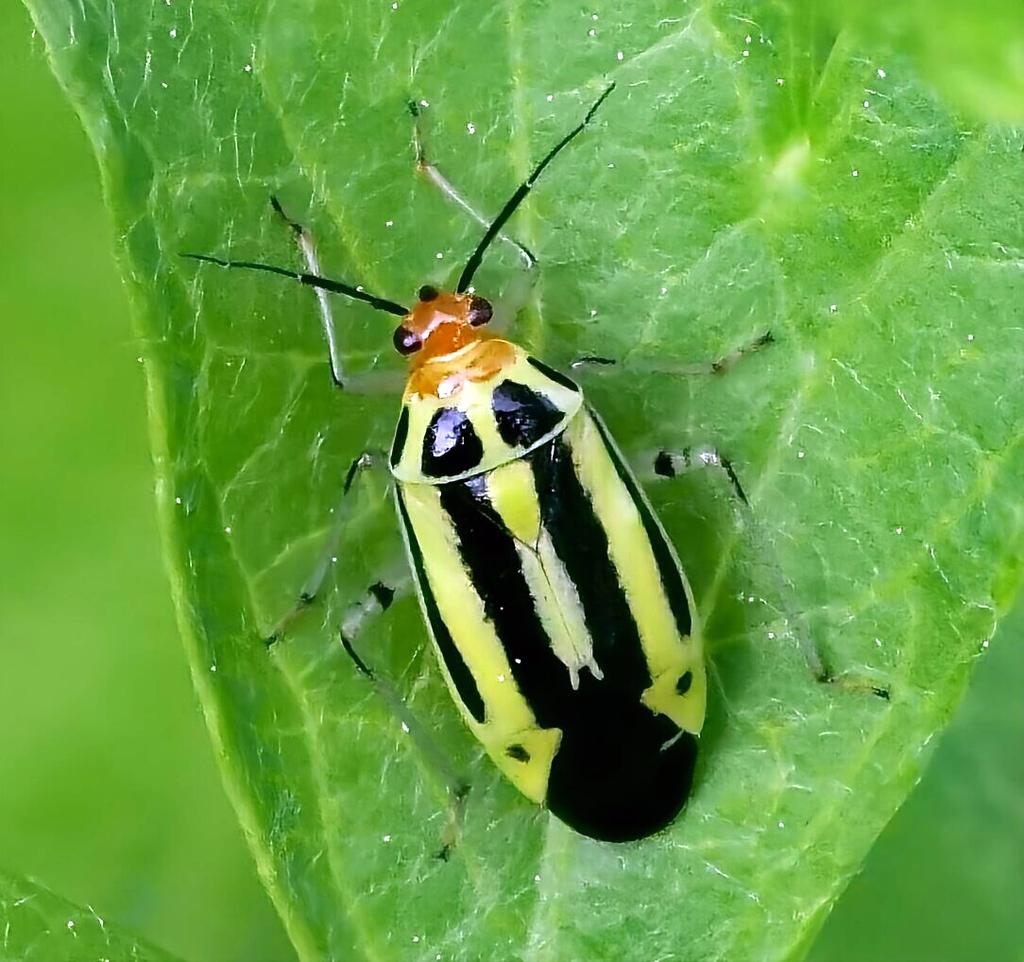plant_bugs: (100, 37, 899, 911)
